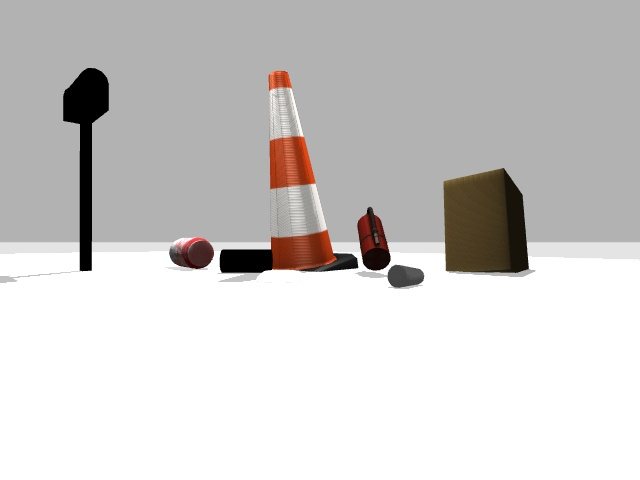boite_lettres: (63, 68, 108, 270)
bol: (257, 270, 305, 282)
bouteille_verre: (220, 249, 271, 272)
canette: (169, 237, 213, 268)
carton: (443, 168, 528, 272)
cone_chantier: (268, 71, 357, 270)
extincteur: (357, 207, 390, 270)
gobelet: (388, 265, 423, 287)
